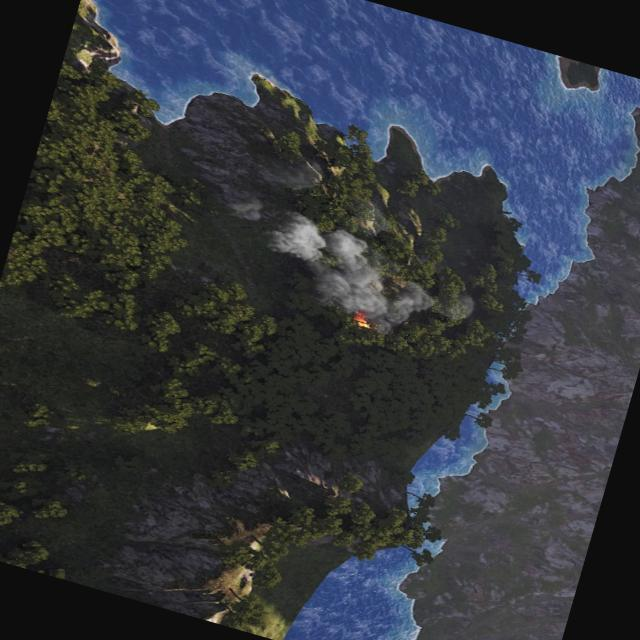fire: (346, 310, 374, 330)
smoke: (249, 204, 491, 356)
